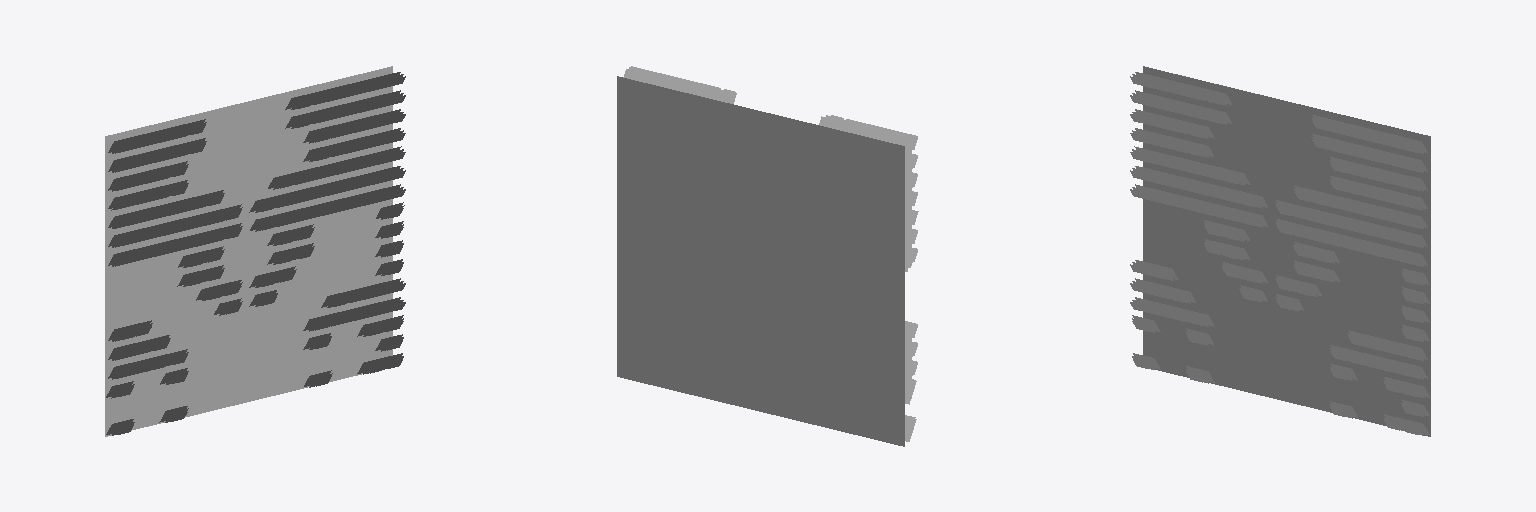
File: Plat_full_10_00.obj
The picture shows the model from 3 angles: view 1: azimuth 30°, elevation 25°; view 2: azimuth 150°, elevation 25°; view 3: azimuth 330°, elevation 25°; orthographic projection.
Visible parts, largest first — view 1: map; view 2: map; view 3: map.
Part boxes in pixels (bbox=[...]): map: bbox=[105, 66, 405, 436]; map: bbox=[617, 66, 918, 446]; map: bbox=[1130, 66, 1430, 436].
Bounding box in the file's own units: 32.5 × 32.12 × 2.64.